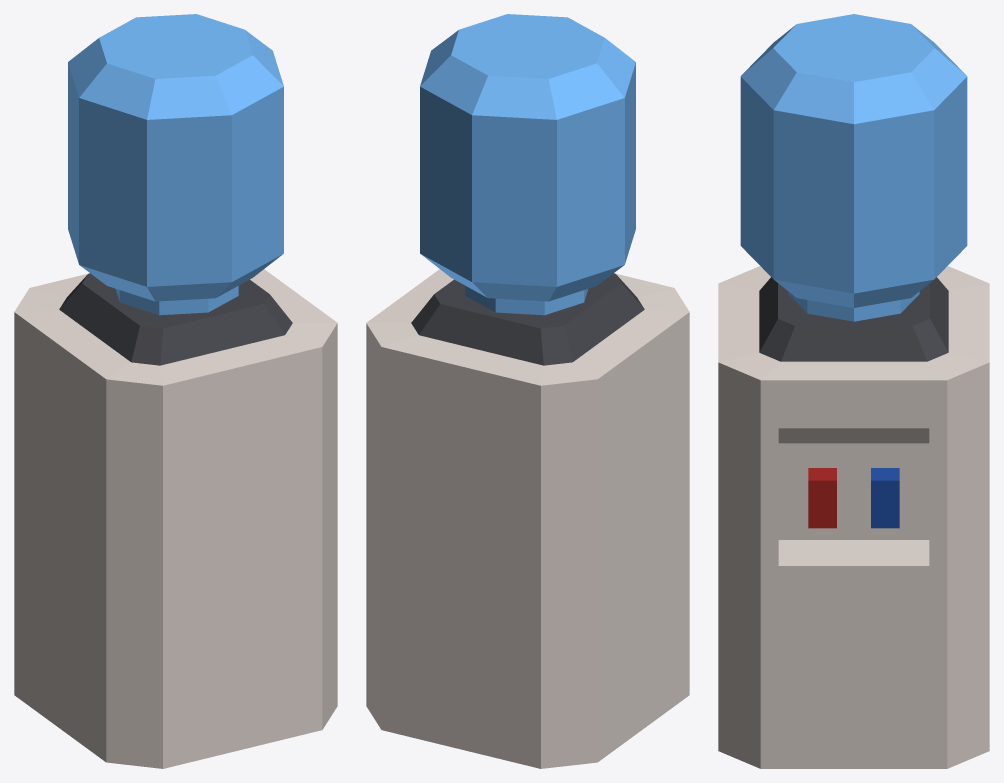
Rendered from watercooler2.fbx.
3 renders of one model, left to right at view 1: azimuth 30°, elevation 25°; view 2: azimuth 150°, elevation 25°; view 3: azimuth 270°, elevation 25°, orthographic.
Visible parts, largest first — view 1: watercooler.002; view 2: watercooler.002; view 3: watercooler.002.
Boxes of the visible parts, x1,y1,x2,y2 form: watercooler.002: (14, 14, 337, 768); watercooler.002: (366, 14, 689, 768); watercooler.002: (718, 14, 989, 768).
Size of the model in its own units: 79.75 by 215 by 79.75.
